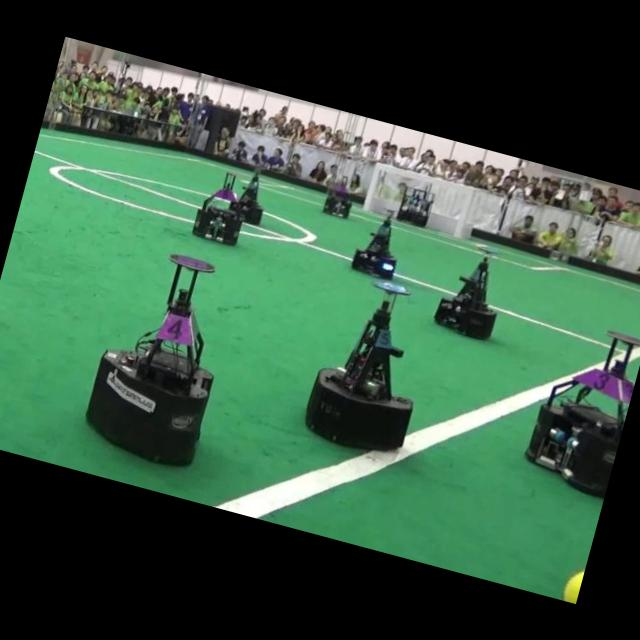goal: (453, 187, 475, 237), (362, 163, 382, 210)
robot: (86, 254, 213, 464), (525, 330, 640, 496), (306, 282, 412, 450), (434, 256, 496, 339), (192, 172, 242, 245), (351, 215, 395, 278), (396, 187, 433, 226), (237, 169, 263, 224), (322, 176, 351, 217)
